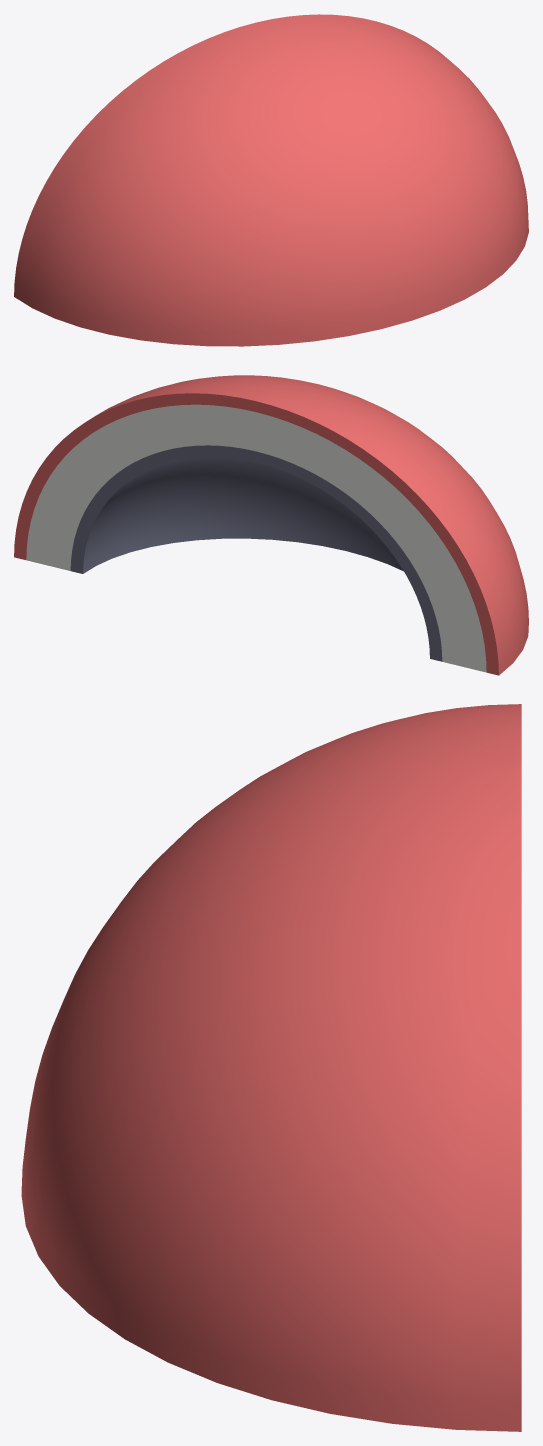
Rendered from helmet.glb.
3 renders of one model, top to bottom at view 1: azimuth 30°, elevation 25°; view 2: azimuth 150°, elevation 25°; view 3: azimuth 270°, elevation 25°, orthographic. The views are drawn at different scales.
Parts seen in each view (by area): view 1: เปลือกแข็ง ABS; view 2: เปลือกแข็ง ABS, ฟองน้ำบุด้านใน, โฟม EPS; view 3: เปลือกแข็ง ABS.
Part boxes in pixels (<box>): เปลือกแข็ง ABS: <box>14,14,528,346</box>; เปลือกแข็ง ABS: <box>14,375,528,675</box>; ฟองน้ำบุด้านใน: <box>70,445,442,661</box>; โฟม EPS: <box>26,404,486,672</box>; เปลือกแข็ง ABS: <box>21,704,521,1431</box>.
Bounding box in the file's own units: 0.3069 × 0.1302 × 0.137.
